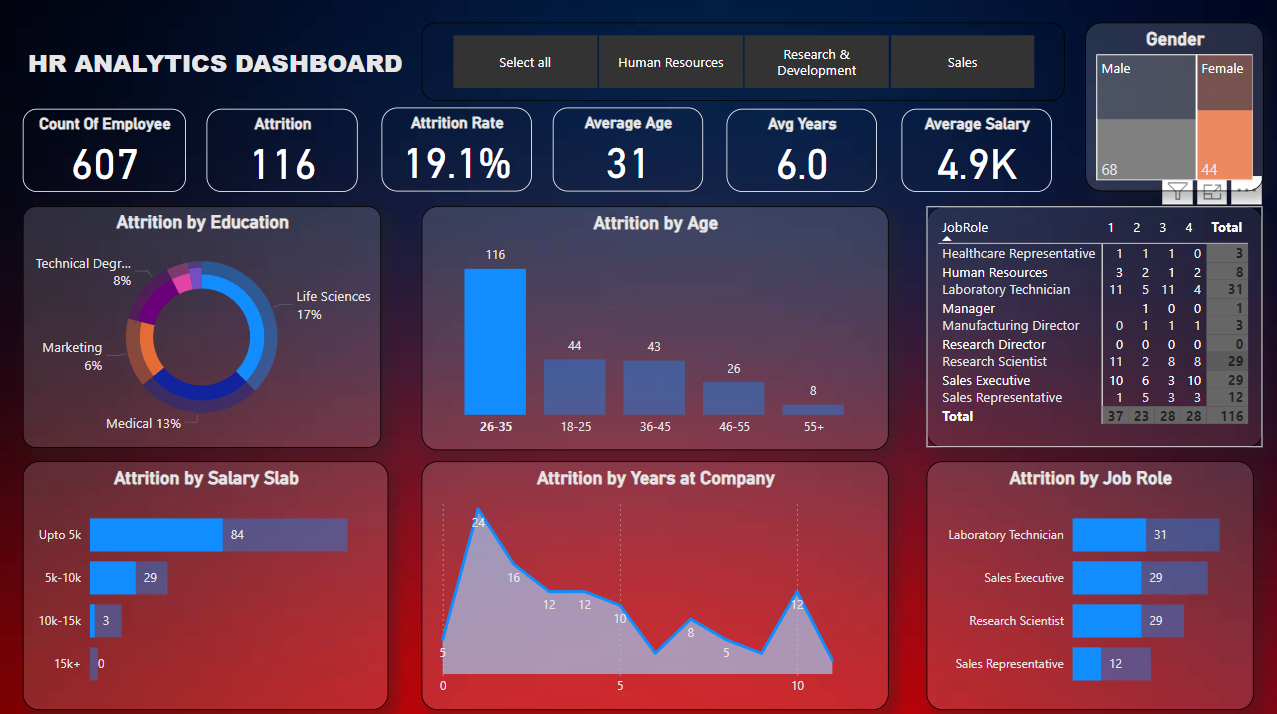

What the dashboard file says about the page in this screenshot:
{"tool":"powerbi","page":{"name":"Page 1","canvas":[1280,720],"ordinal":0},"visuals":[{"type":"card","title":"Count Of Employee","fields":{"Values":["CountNonNull(HR_Analytics.EmpID)"]},"box":[24.3,108.6,162.9,82.9],"z":0},{"type":"card","title":"Attrition","fields":{"Values":["Sum(HR_Analytics.AttritionCount)"]},"box":[207.1,108.6,151.4,82.9],"z":1000},{"type":"card","title":"Attrition Rate","fields":{"Values":["HR_Analytics.AttritionRate"]},"box":[382.9,107.1,150,84.3],"z":2000},{"type":"card","title":"Average Age","fields":{"Values":["Avg(HR_Analytics.Age)"]},"box":[554.3,107.1,150,84.3],"z":3000},{"type":"card","title":"Avg Years","fields":{"Values":["Avg(HR_Analytics.YearsAtCompany)"]},"box":[727.1,108.6,150,82.9],"z":4000},{"type":"card","title":"Average Salary","fields":{"Values":["Avg(HR_Analytics.MonthlyIncome)"]},"box":[902.9,108.6,150,82.9],"z":5000},{"type":"donutChart","title":"Attrition by Education","fields":{"Category":["HR_Analytics.EducationField"],"Y":["Sum(HR_Analytics.AttritionCount)"]},"box":[24.3,205.7,358.6,241.4],"z":6000},{"type":"columnChart","title":"Attrition by Age","fields":{"Category":["HR_Analytics.AgeGroup"],"Y":["Sum(HR_Analytics.AttritionCount)"]},"box":[422.9,205.7,467.1,244.3],"z":7000},{"type":"pivotTable","fields":{"Values":["Sum(HR_Analytics.AttritionCount)"],"Columns":["HR_Analytics.EnvironmentSatisfaction"],"Rows":["HR_Analytics.JobRole"]},"box":[927.1,205.7,337.1,241.4],"z":8000},{"type":"barChart","title":"Attrition by Salary Slab","fields":{"Category":["HR_Analytics.SalarySlab"],"Y":["Sum(HR_Analytics.AttritionCount)"]},"box":[24.3,461.4,365.7,248.6],"z":9000},{"type":"barChart","title":"Attrition by Job Role","fields":{"Category":["HR_Analytics.JobRole"],"Y":["Sum(HR_Analytics.AttritionCount)"]},"box":[927.1,461.4,327.1,248.6],"z":10000},{"type":"stackedAreaChart","title":"Attrition by Years at Company","fields":{"Category":["HR_Analytics.YearsAtCompany"],"Y":["Sum(HR_Analytics.AttritionCount)"]},"box":[422.9,461.4,467.1,248.6],"z":11000},{"type":"treemap","title":"Gender","fields":{"Group":["HR_Analytics.Gender"],"Values":["Sum(HR_Analytics.AttritionCount)"]},"box":[1085.7,22.9,178.6,168.6],"z":12000},{"type":"slicer","fields":{"Values":["HR_Analytics.Department"]},"box":[422.9,22.9,642.9,78.6],"z":13000},{"type":"textbox","box":[24.3,41.4,402.9,60],"z":13001}]}

Visuals, with their boxes in screenshot pixels (x1, y1, x2, y2), scaled from the page's 1280x720 canvas onto the 1277x714 screenshot:
"Count Of Employee" card: [x1=24, y1=108, x2=187, y2=190]
"Attrition" card: [x1=207, y1=108, x2=358, y2=190]
"Attrition Rate" card: [x1=382, y1=106, x2=532, y2=190]
"Average Age" card: [x1=553, y1=106, x2=703, y2=190]
"Avg Years" card: [x1=725, y1=108, x2=875, y2=190]
"Average Salary" card: [x1=901, y1=108, x2=1050, y2=190]
"Attrition by Education" donutChart: [x1=24, y1=204, x2=382, y2=443]
"Attrition by Age" columnChart: [x1=422, y1=204, x2=888, y2=446]
pivotTable - Sum(HR_Analytics.AttritionCount) x HR_Analytics.EnvironmentSatisfaction: [x1=925, y1=204, x2=1261, y2=443]
"Attrition by Salary Slab" barChart: [x1=24, y1=458, x2=389, y2=704]
"Attrition by Job Role" barChart: [x1=925, y1=458, x2=1251, y2=704]
"Attrition by Years at Company" stackedAreaChart: [x1=422, y1=458, x2=888, y2=704]
"Gender" treemap: [x1=1083, y1=23, x2=1261, y2=190]
slicer - HR_Analytics.Department: [x1=422, y1=23, x2=1063, y2=101]
textbox: [x1=24, y1=41, x2=426, y2=101]
